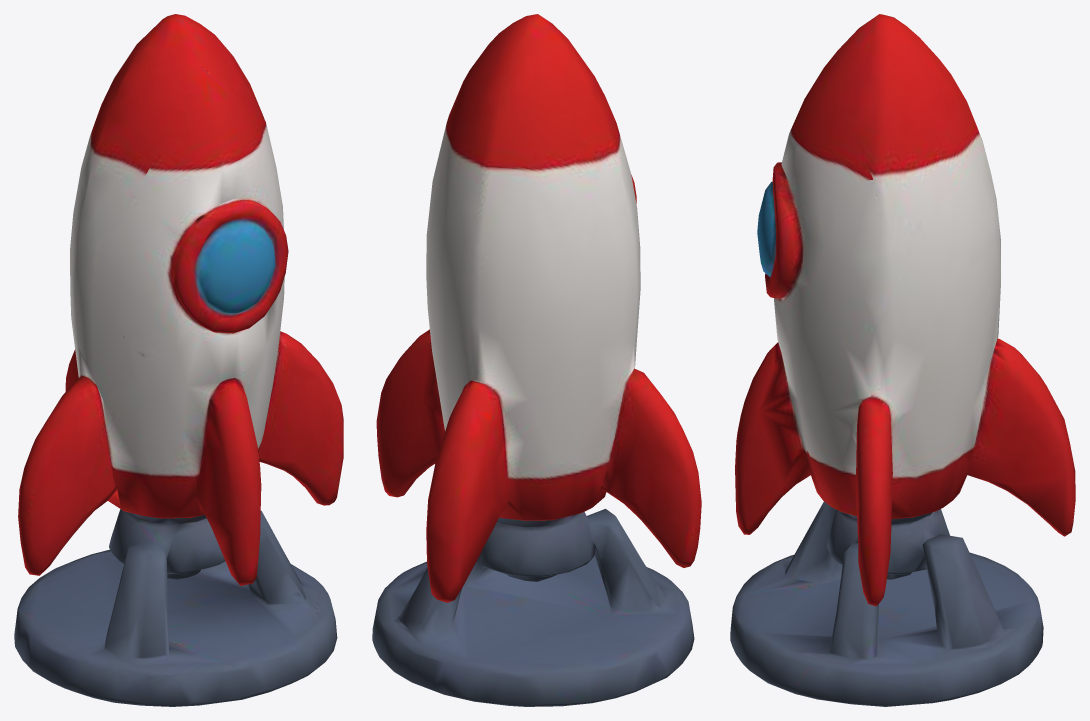
File: rocketToy.glb
The picture shows the model from 3 angles, left to right: view 1: azimuth 30°, elevation 25°; view 2: azimuth 150°, elevation 25°; view 3: azimuth 270°, elevation 25°; orthographic projection.
Parts seen in each view (by area): view 1: model; view 2: model; view 3: model.
Part boxes in pixels (bbox=[...]): model: bbox=[14, 14, 343, 706]; model: bbox=[372, 14, 701, 706]; model: bbox=[730, 14, 1075, 706].
Bounding box in the file's own units: 1.02 × 1.9 × 0.9526.
Materials: 1 (1 with a texture image).
